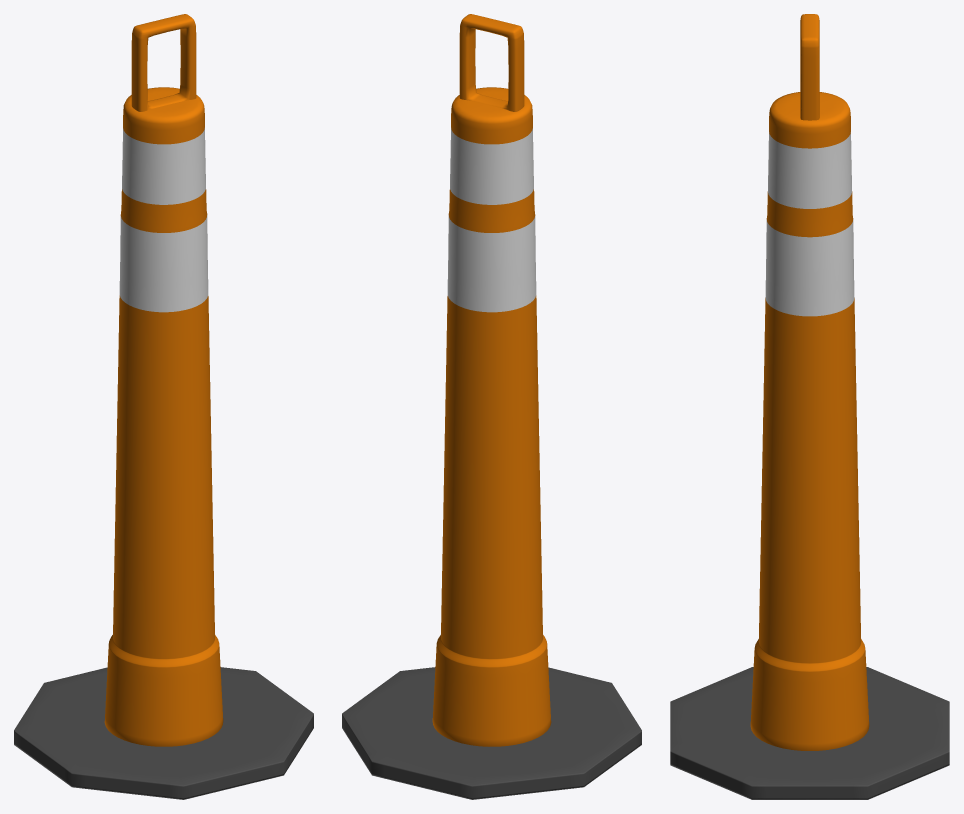
Rendered from Proto_TrafficCone_02.fbx.
3 views of the same model, side by side, from view 1: azimuth 30°, elevation 25°; view 2: azimuth 150°, elevation 25°; view 3: azimuth 270°, elevation 25° (orthographic).
Visible parts, largest first — view 1: Proto_TrafficCone_02; view 2: Proto_TrafficCone_02; view 3: Proto_TrafficCone_02.
Boxes of the visible parts, bbox=[...] form: Proto_TrafficCone_02: bbox=[14, 14, 313, 799]; Proto_TrafficCone_02: bbox=[342, 14, 641, 799]; Proto_TrafficCone_02: bbox=[670, 14, 949, 799].
Bounding box in the file's own units: 15.3 × 43.17 × 15.3.
